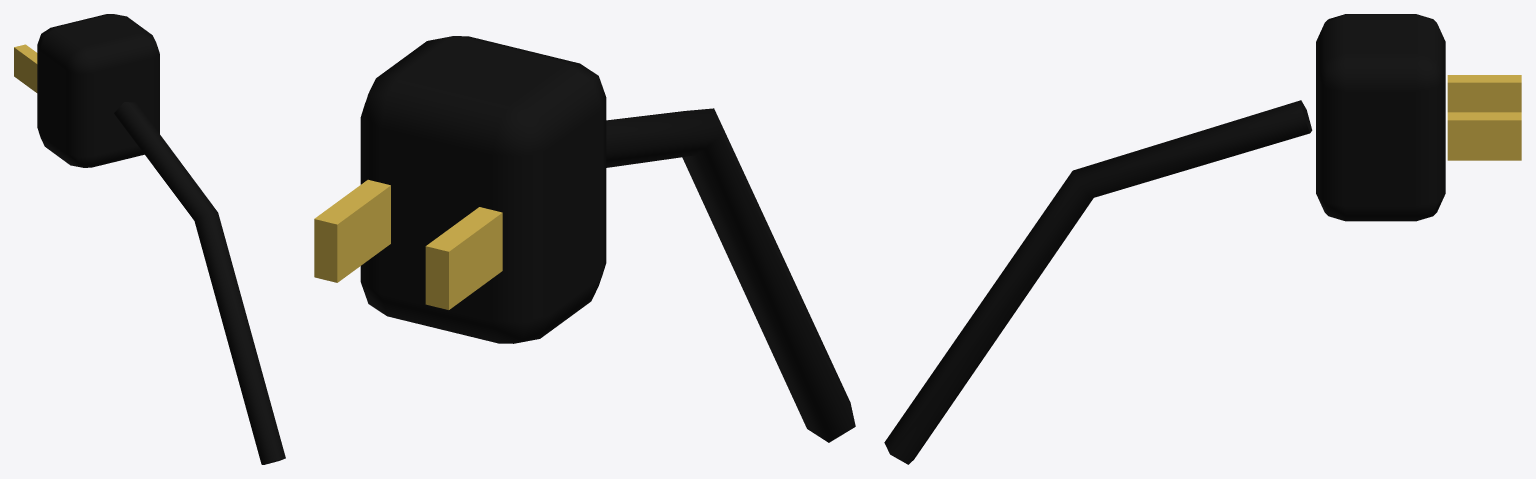
Rendered from power_plug.glb.
3 views of the same model, side by side, from view 1: azimuth 30°, elevation 25°; view 2: azimuth 150°, elevation 25°; view 3: azimuth 270°, elevation 25° (orthographic). The views are drawn at different scales.
Parts seen in each view (by area): view 1: main; view 2: main; view 3: main.
Part boxes in pixels (x1=…): main: x1=14, y1=14, x2=285, y2=464; main: x1=314, y1=36, x2=855, y2=442; main: x1=884, y1=14, x2=1521, y2=464.
Bounding box in the file's own units: 0.04 × 0.1275 × 0.172.
